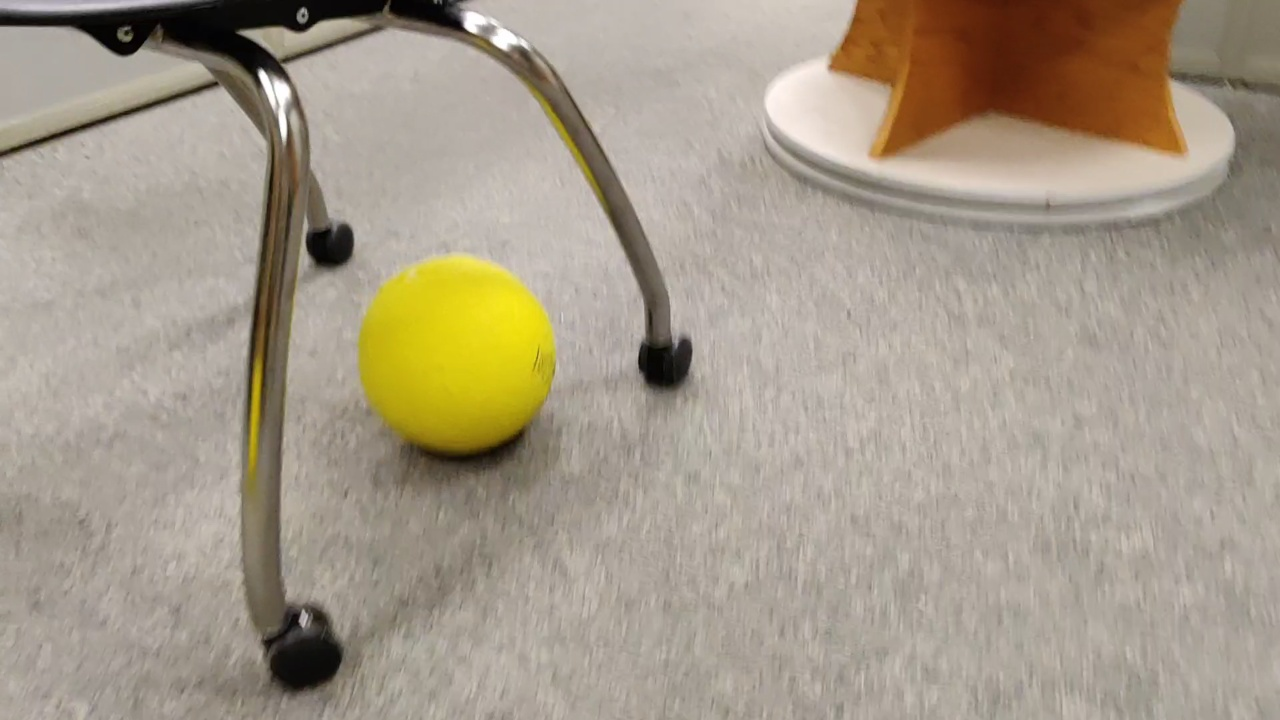Ball: (358, 255, 563, 461)
